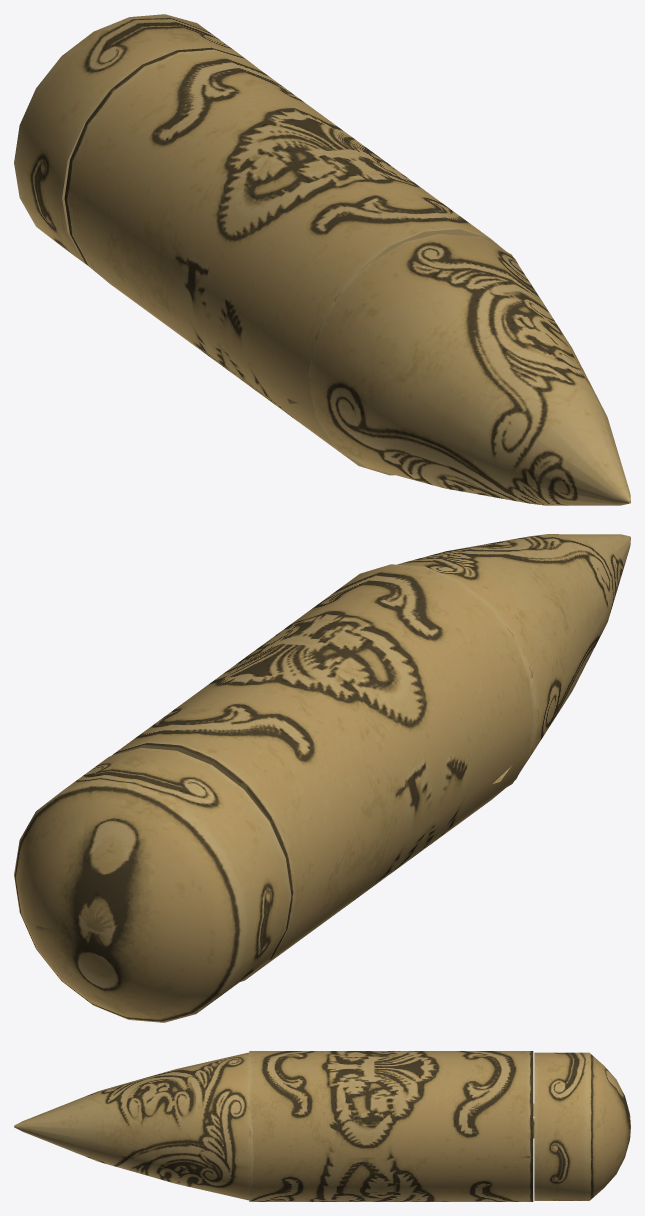
Rendered from Bullet-1_Final.fbx.
3 views of the same model, one above another, from view 1: azimuth 30°, elevation 25°; view 2: azimuth 150°, elevation 25°; view 3: azimuth 270°, elevation 25° (orthographic). The views are drawn at different scales.
Parts seen in each view (by area): view 1: bulitMid001, Bulittop001, BulitBack001; view 2: bulitMid001, BulitBack001, Bulittop001; view 3: bulitMid001, Bulittop001, BulitBack001.
Boxes of the visible parts, left/top/right/bottom form: bulitMid001: left=64, top=47, right=518, bottom=475; Bulittop001: left=287, top=234, right=630, bottom=505; BulitBack001: left=14, top=14, right=254, bottom=264; bulitMid001: left=111, top=564, right=533, bottom=981; BulitBack001: left=14, top=747, right=291, bottom=1022; Bulittop001: left=397, top=534, right=630, bottom=786; bulitMid001: left=249, top=1051, right=533, bottom=1201; Bulittop001: left=14, top=1052, right=534, bottom=1200; BulitBack001: left=534, top=1052, right=630, bottom=1200.
Bounding box in the file's own units: 50.95 × 50.7 × 205.
Materials: 1 (1 with a texture image).
